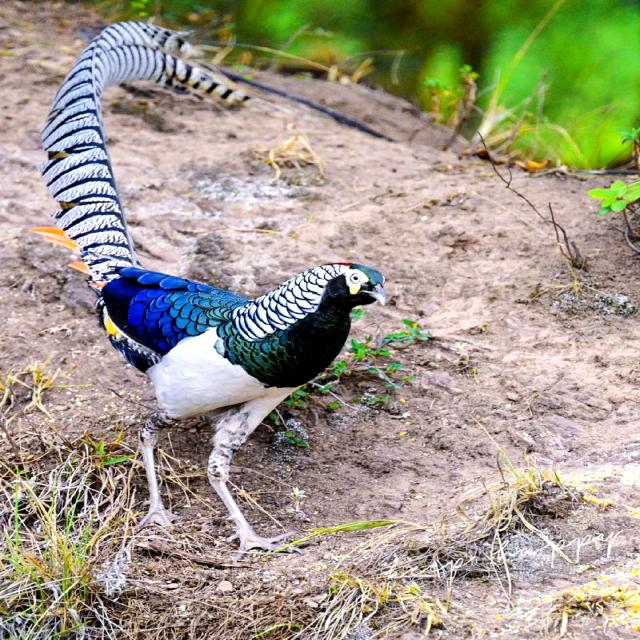Chrysolophus amherstiae: (42, 22, 250, 290)
